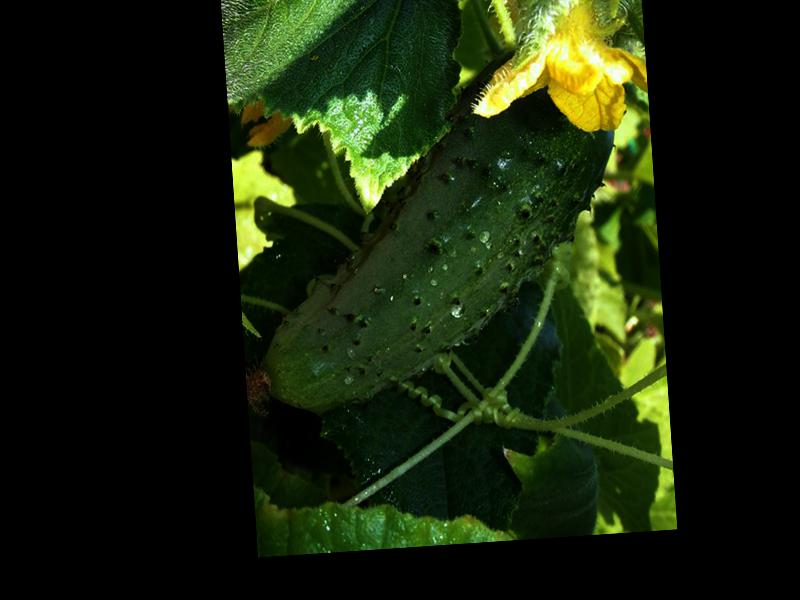Cucumber: (226, 43, 631, 418)
